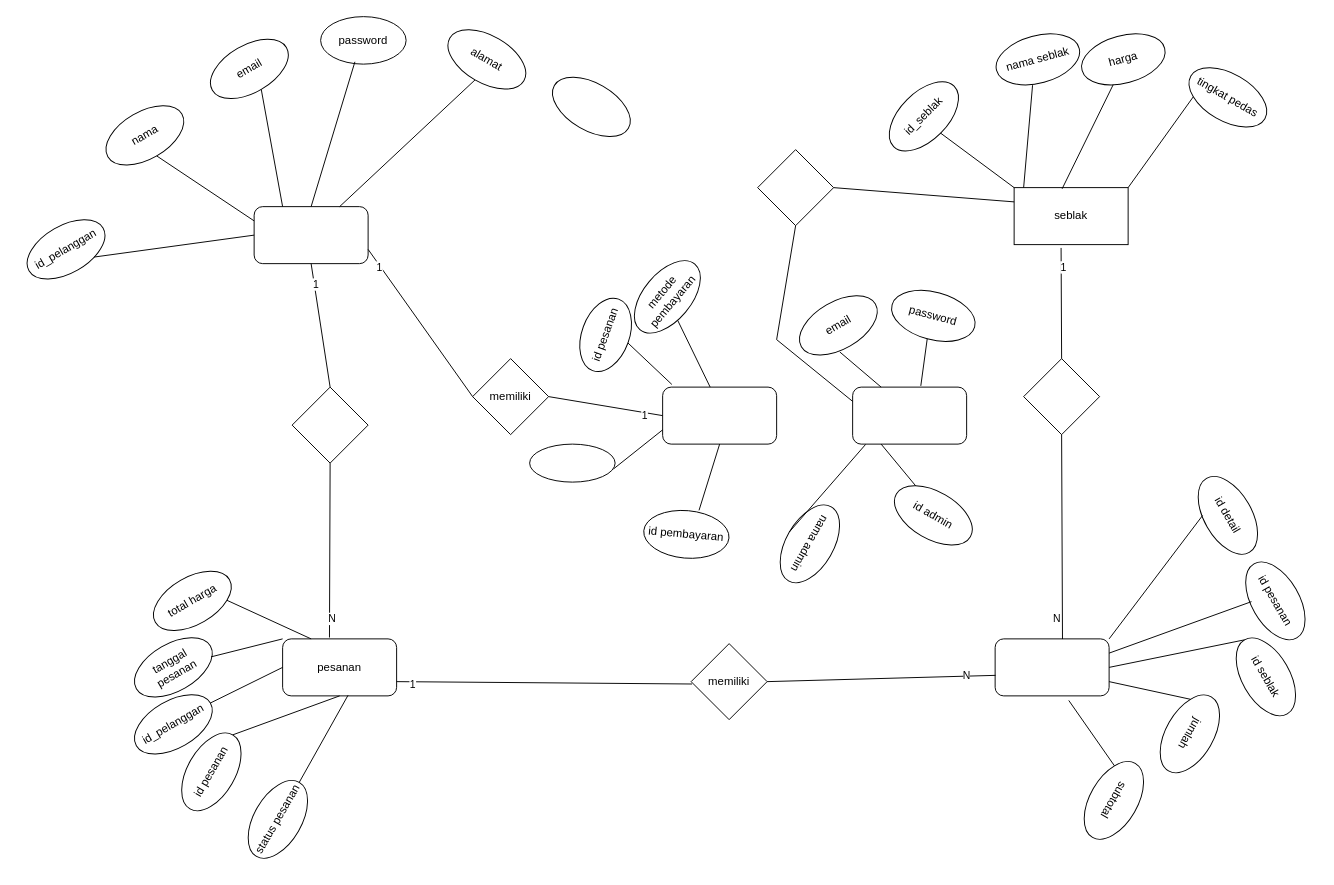
Image size: 1334x885. Some labels were removed from this diagram. Each missing label, with the centre of its shape:
"admin" goes at pixel 909 415.
"detail pesanan" goes at pixel 1051 667.
"membuat" goes at pixel 329 424.
"mengelola" goes at pixel 795 187.
"muncul" goes at pixel 1061 396.
"no_hp" goes at pixel 590 106.
"pelanggan" goes at pixel 310 235.
"pembayaran" goes at pixel 719 415.
